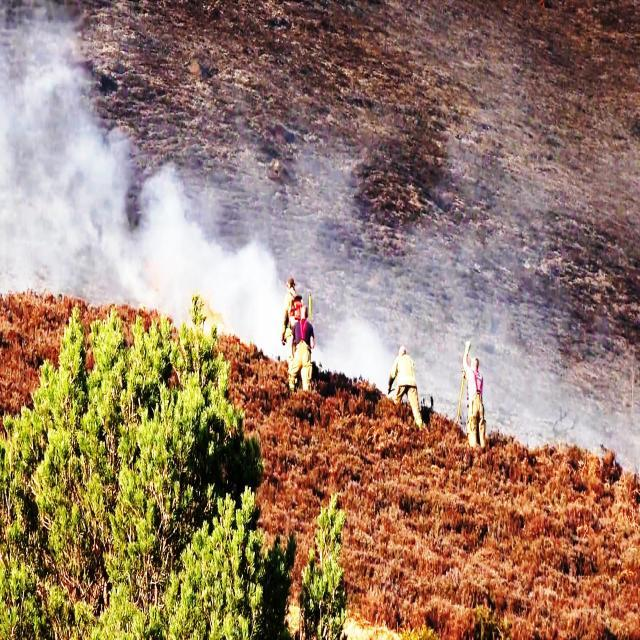Smoke: (298, 188, 640, 432), (2, 0, 134, 296), (128, 174, 284, 354)
